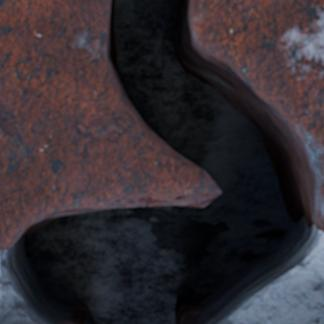broken_brick: (0, 0, 214, 251), (194, 0, 323, 233)
crack: (0, 0, 322, 323)
